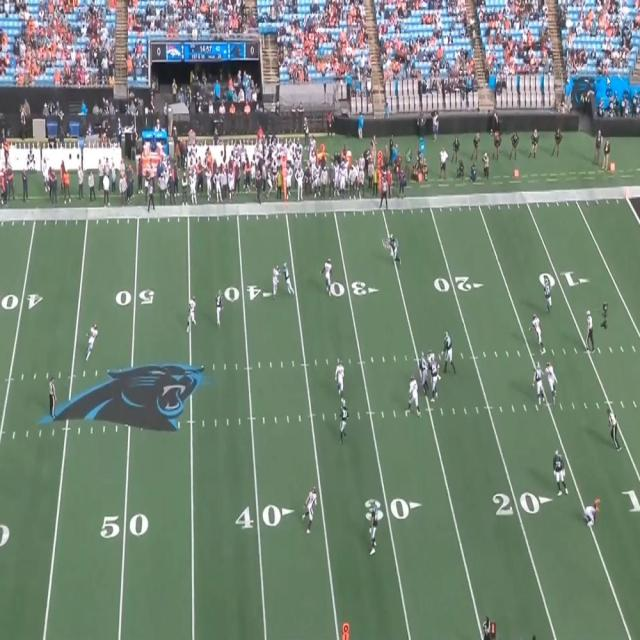db: (87, 323, 97, 357), (188, 293, 197, 328), (326, 259, 335, 291), (273, 263, 281, 294)
lb: (306, 488, 319, 530), (336, 360, 344, 400)
qb: (544, 276, 552, 308)
skill: (392, 234, 402, 268), (284, 265, 294, 296), (339, 404, 346, 443), (215, 290, 222, 324)
